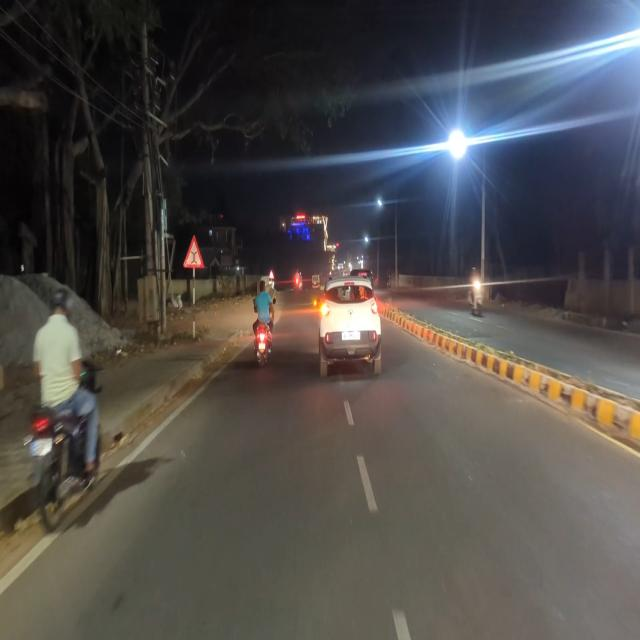bien_cam: (182, 234, 205, 269)
